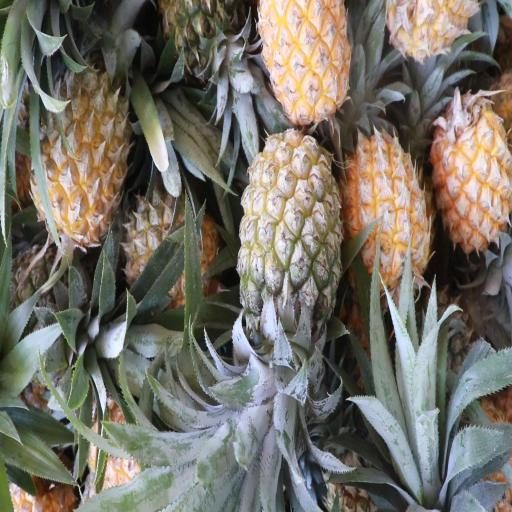------------------------------: (239, 131, 343, 341), (127, 190, 216, 317)
Pineapple - v8 v1: (34, 71, 129, 245), (348, 133, 432, 290), (432, 97, 512, 251), (259, 0, 350, 122)
